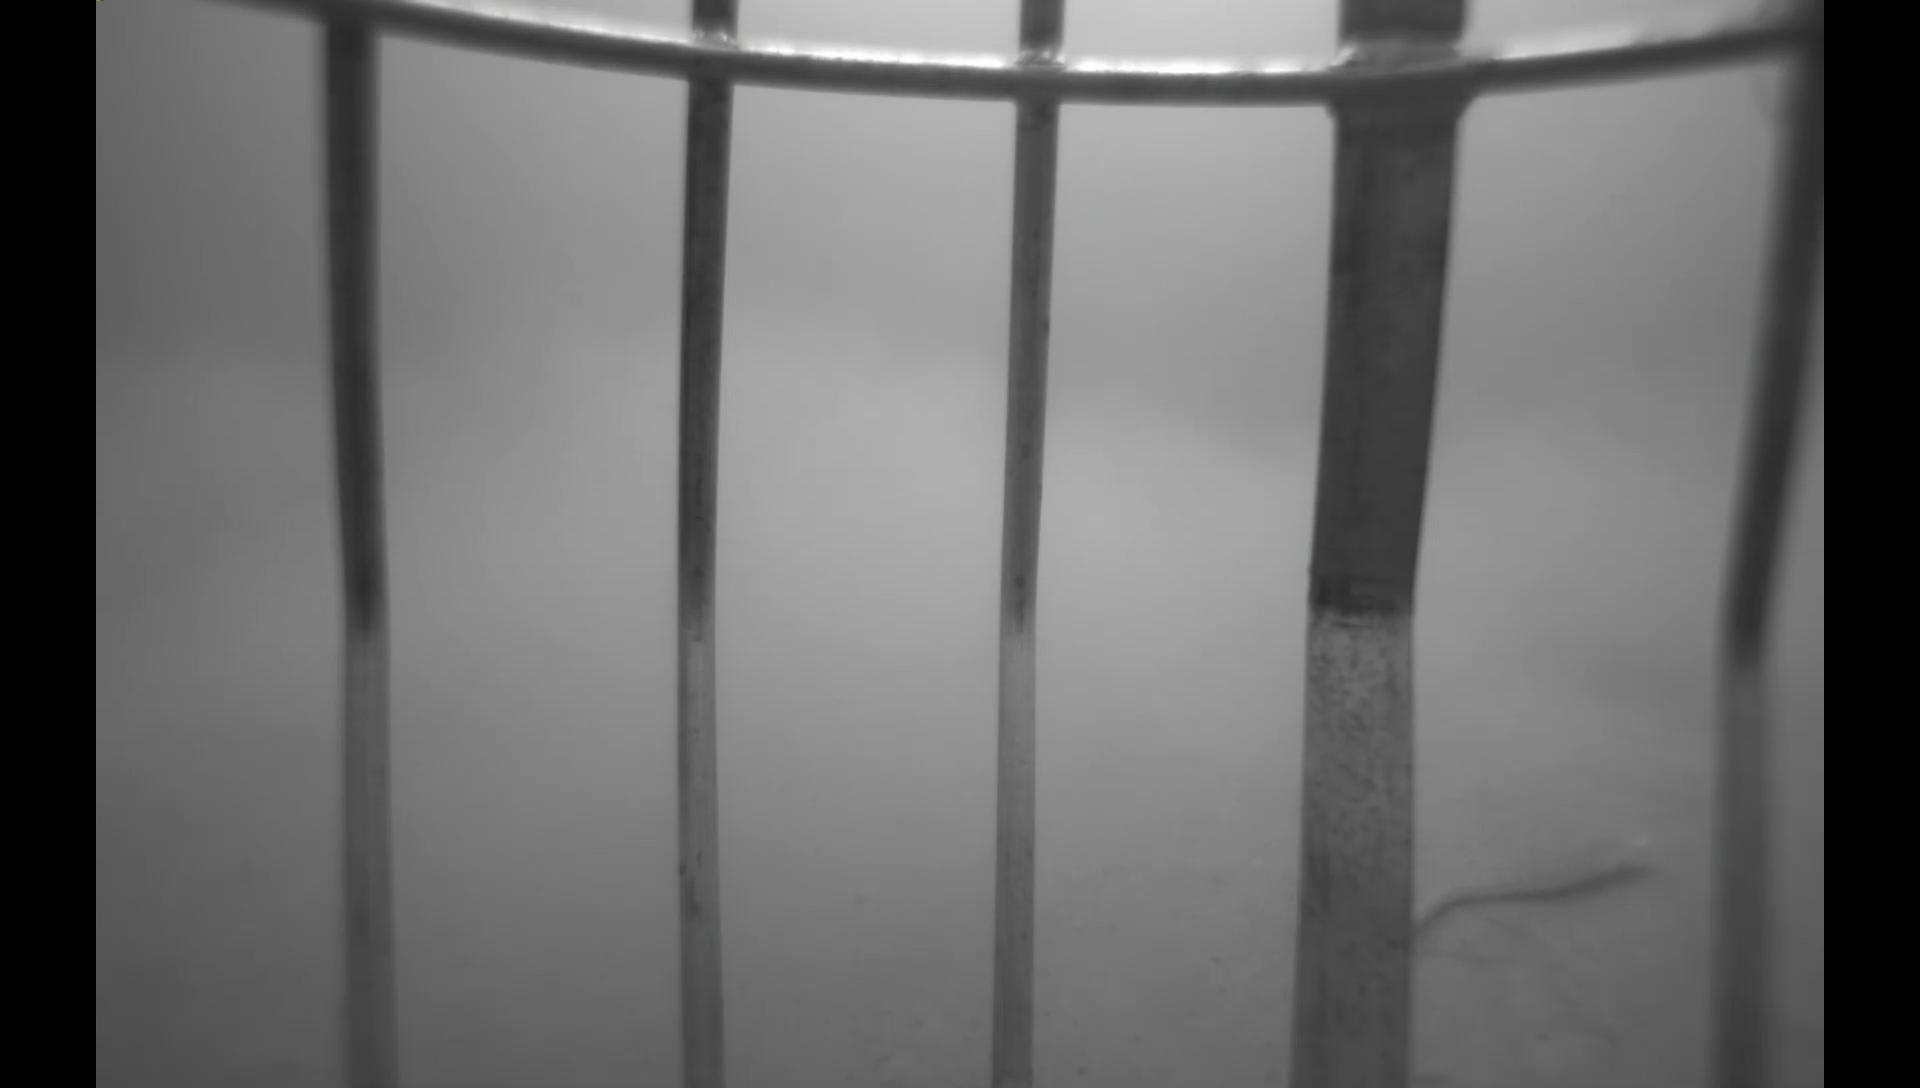OPHICHTHUSPUNCTICEPS-143150402: (1418, 822, 1662, 944)
